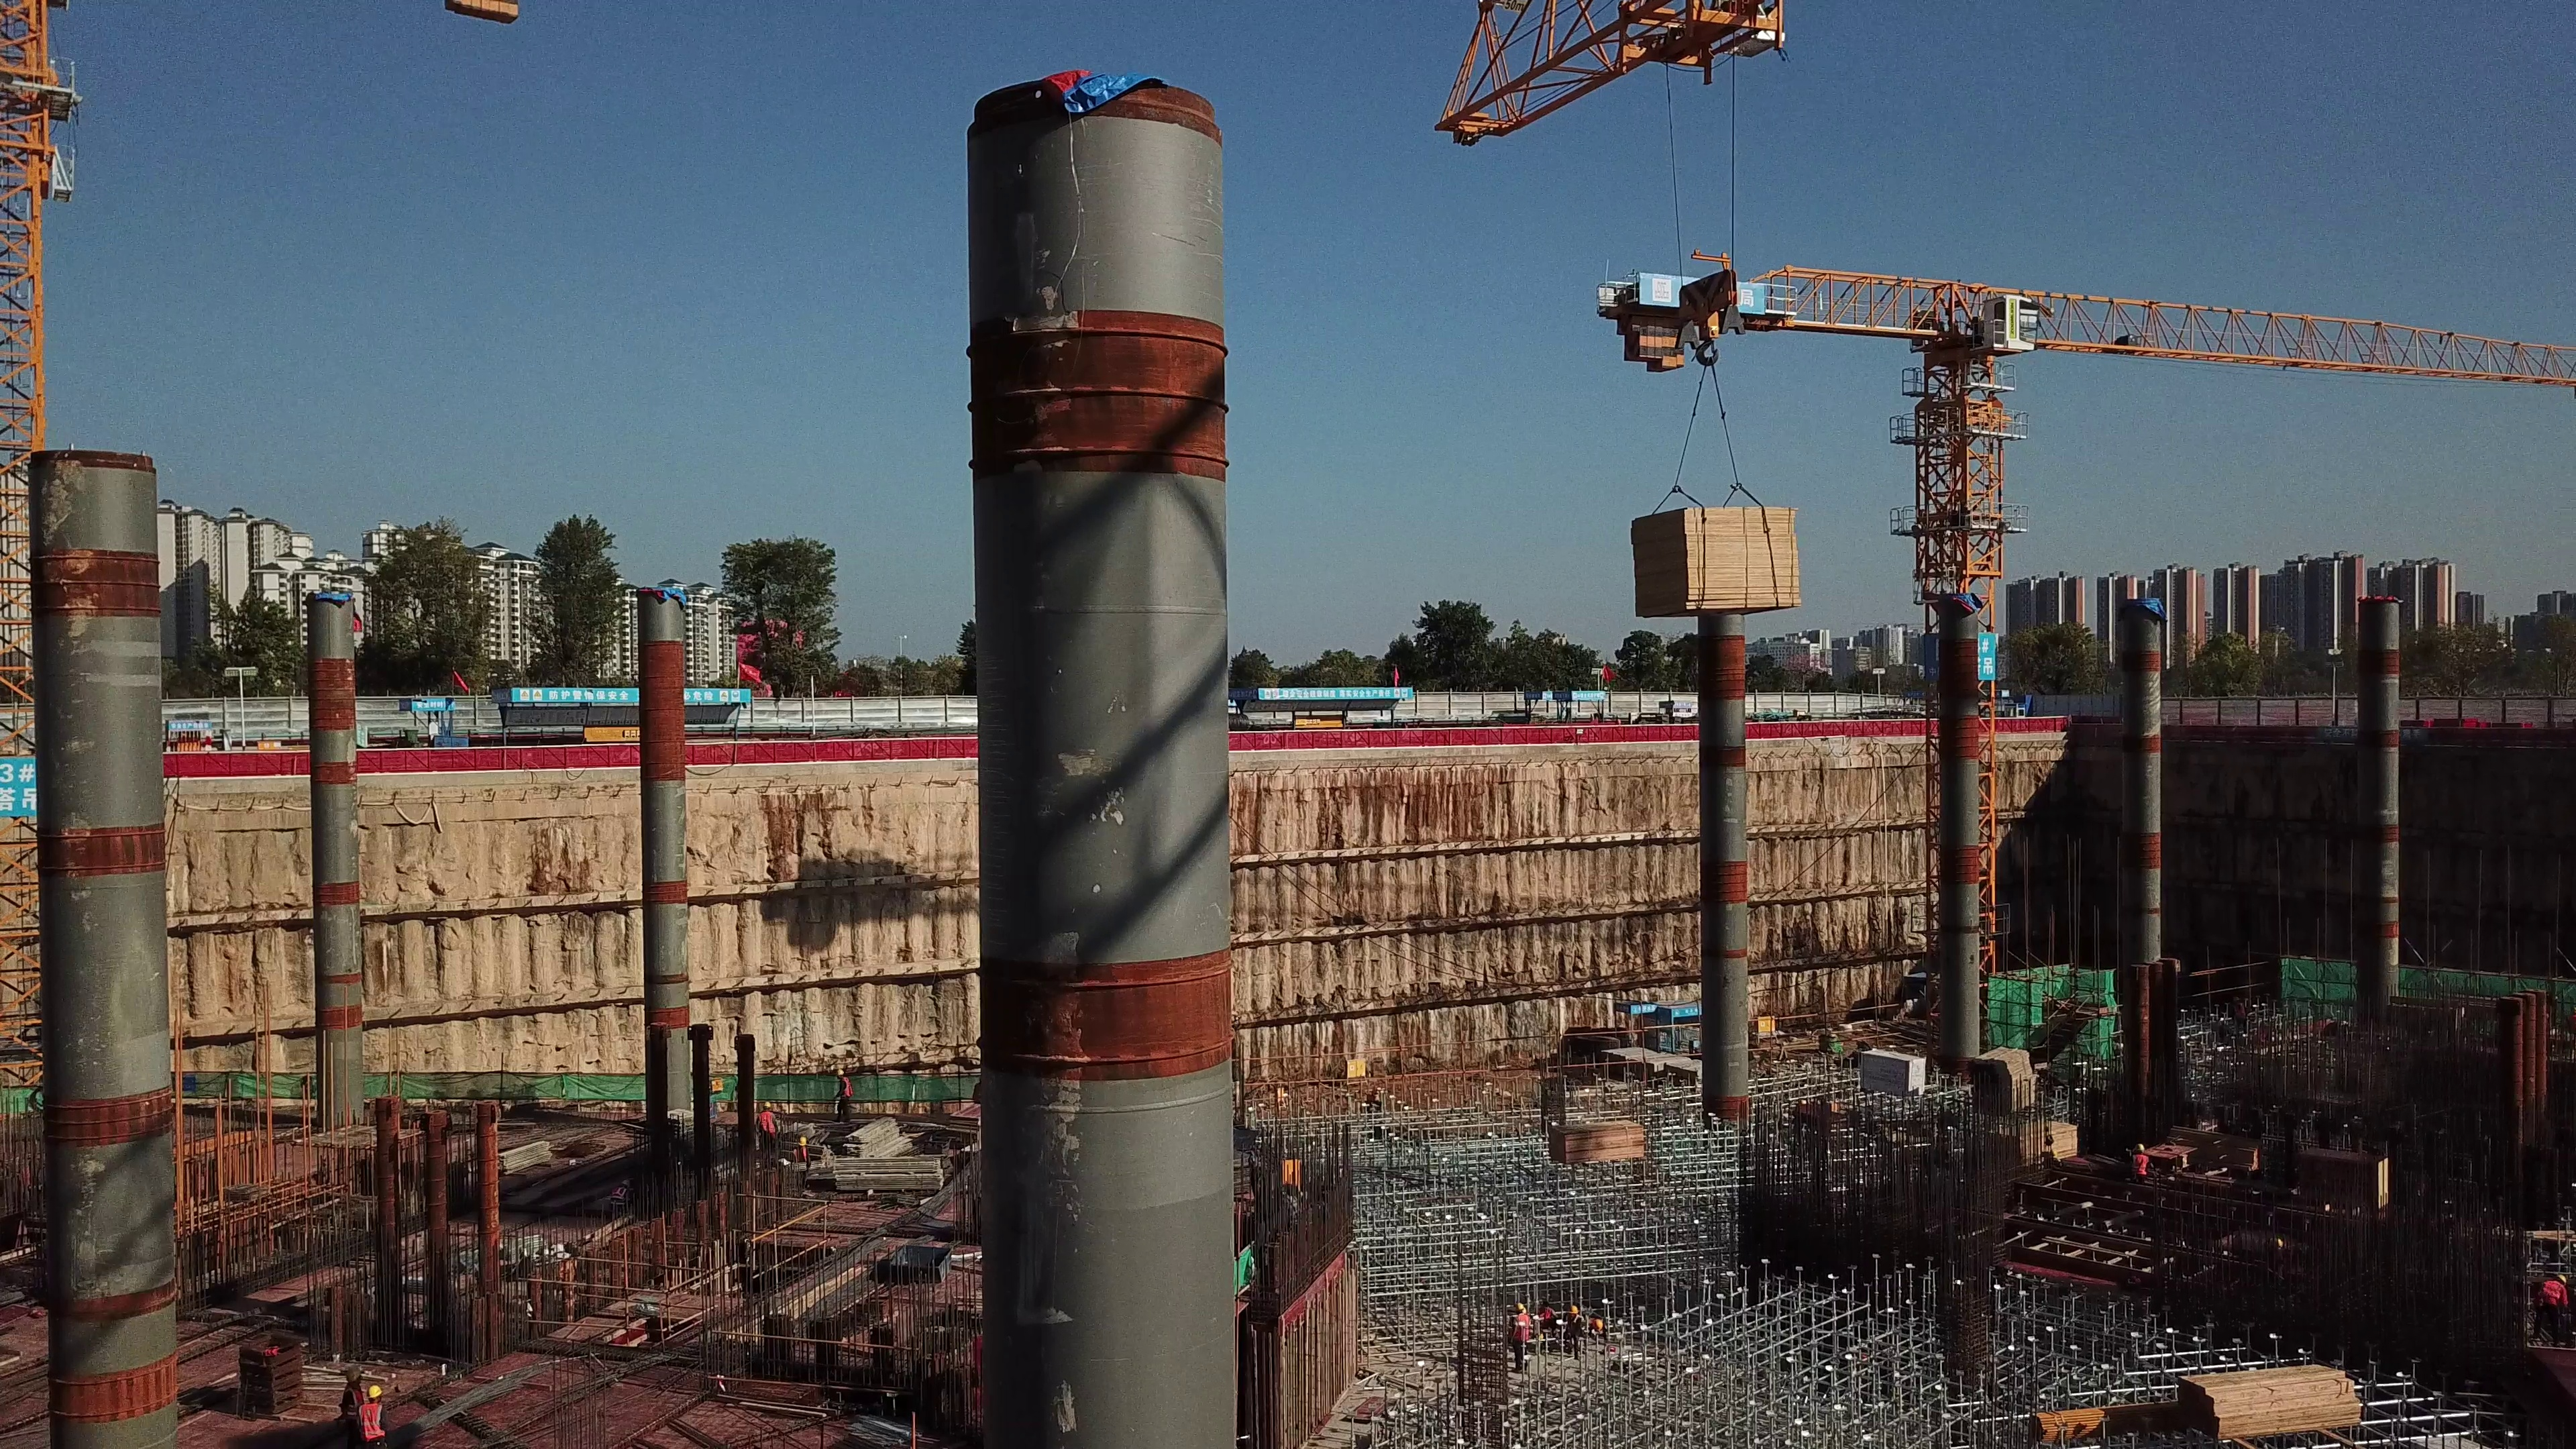board: (1631, 494, 1810, 619), (2161, 1353, 2368, 1442), (1548, 1119, 1655, 1165)
helmet: (364, 1382, 384, 1401)
hook: (1670, 272, 1741, 371)
person: (343, 1362, 389, 1447), (1505, 1301, 1532, 1368), (831, 1066, 856, 1124), (2134, 1136, 2153, 1199), (757, 1097, 776, 1145)
